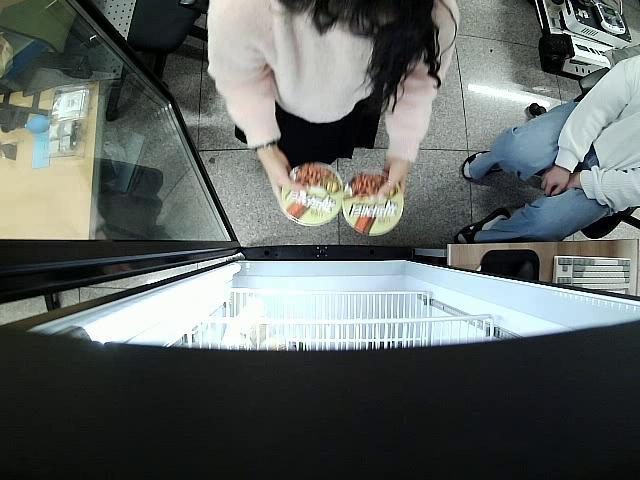03_chapagetti_L: (343, 171, 404, 236), (280, 163, 342, 226)
